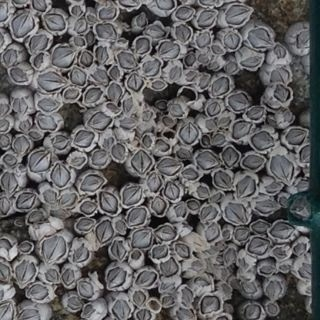Barnacle: (270, 151, 295, 183), (41, 236, 67, 263), (10, 12, 34, 37), (37, 71, 68, 90), (14, 259, 37, 284), (225, 3, 251, 25), (234, 174, 256, 199), (222, 202, 247, 223), (247, 28, 272, 49), (28, 149, 50, 172), (131, 150, 152, 174), (50, 46, 74, 67), (177, 121, 199, 143), (50, 162, 69, 187), (270, 221, 296, 239), (78, 174, 104, 192), (156, 157, 182, 175), (85, 112, 111, 130), (195, 151, 218, 170), (227, 93, 250, 112), (95, 21, 118, 40), (0, 172, 18, 196), (131, 228, 152, 248), (121, 186, 141, 207), (220, 146, 240, 167), (210, 77, 231, 97), (99, 191, 118, 213), (251, 130, 273, 149), (199, 295, 222, 313), (15, 190, 35, 210), (232, 119, 252, 139), (111, 298, 130, 319), (249, 237, 270, 256), (153, 225, 176, 242), (96, 219, 113, 242), (157, 40, 180, 57), (107, 267, 126, 287), (196, 11, 217, 29), (127, 207, 147, 225), (212, 170, 232, 188), (44, 13, 64, 31), (255, 198, 277, 214), (242, 153, 264, 169), (74, 130, 93, 148), (295, 29, 312, 49), (30, 33, 48, 51), (222, 31, 240, 49), (160, 257, 177, 276), (270, 65, 289, 82), (240, 55, 263, 69), (285, 129, 306, 144), (142, 59, 160, 76), (118, 51, 136, 68), (136, 270, 155, 286), (38, 114, 57, 130), (71, 66, 86, 86), (2, 49, 17, 69), (17, 306, 40, 319), (78, 280, 94, 298), (58, 192, 76, 208), (13, 135, 29, 153), (26, 285, 48, 298), (267, 279, 282, 298), (83, 88, 102, 103), (111, 239, 125, 259), (151, 195, 165, 215), (145, 24, 165, 38), (274, 85, 290, 102), (243, 304, 261, 319), (50, 135, 68, 150), (127, 72, 142, 90), (195, 31, 210, 49), (175, 23, 190, 41), (174, 5, 193, 19), (38, 98, 58, 111), (92, 151, 108, 167), (73, 244, 88, 261), (204, 223, 219, 240), (200, 205, 217, 220), (9, 67, 26, 82), (120, 115, 138, 129), (108, 81, 120, 102), (98, 5, 116, 19), (251, 221, 270, 234), (165, 180, 178, 199), (66, 295, 82, 310), (151, 244, 168, 258), (90, 67, 107, 81), (62, 267, 75, 285), (148, 172, 160, 191), (299, 144, 311, 163), (41, 188, 56, 203), (182, 166, 197, 181), (80, 200, 96, 214), (136, 37, 150, 53), (73, 17, 87, 33), (95, 46, 108, 63), (0, 262, 11, 282), (264, 181, 282, 193), (247, 107, 265, 119), (44, 267, 58, 282), (300, 263, 314, 278), (175, 243, 189, 258), (295, 179, 310, 193), (185, 68, 200, 82), (168, 66, 182, 81), (32, 51, 45, 67), (176, 307, 193, 319), (224, 248, 236, 265), (76, 218, 93, 230), (168, 102, 182, 116), (154, 138, 169, 151), (13, 98, 26, 113), (64, 86, 79, 99), (80, 51, 93, 66), (273, 43, 286, 58), (174, 202, 186, 218), (113, 143, 125, 159), (133, 290, 145, 305), (234, 228, 249, 240), (108, 65, 120, 80), (32, 0, 47, 12), (154, 0, 174, 9), (181, 286, 192, 302), (282, 108, 295, 121), (207, 102, 220, 115), (242, 282, 256, 294), (3, 153, 17, 165), (199, 73, 210, 88), (28, 211, 44, 221), (293, 242, 306, 254), (196, 185, 208, 198), (212, 133, 226, 144), (0, 197, 9, 214), (272, 246, 287, 256), (82, 304, 94, 316), (195, 276, 207, 288), (123, 96, 132, 112), (70, 4, 82, 16), (137, 308, 150, 319), (0, 238, 11, 251), (218, 115, 231, 126), (225, 60, 236, 73), (160, 282, 174, 292), (136, 12, 146, 26), (70, 156, 85, 165), (161, 296, 173, 307), (115, 220, 126, 232), (278, 195, 289, 207), (210, 191, 222, 202), (19, 119, 30, 131), (184, 53, 195, 65), (238, 257, 248, 270), (19, 242, 32, 252), (105, 104, 118, 114), (259, 265, 273, 274), (0, 102, 9, 116), (151, 79, 165, 88), (0, 119, 10, 131), (162, 116, 174, 126), (143, 109, 153, 121), (103, 136, 112, 149), (85, 30, 93, 44), (267, 303, 278, 313), (205, 119, 216, 129), (211, 44, 222, 54), (0, 135, 9, 147), (230, 279, 240, 289), (222, 285, 231, 296), (143, 134, 151, 146), (187, 200, 197, 209), (201, 135, 210, 145), (207, 61, 217, 70), (87, 14, 97, 23), (29, 131, 40, 139), (155, 101, 166, 109), (205, 246, 215, 254), (197, 54, 207, 62), (131, 251, 140, 259), (305, 285, 312, 295)
